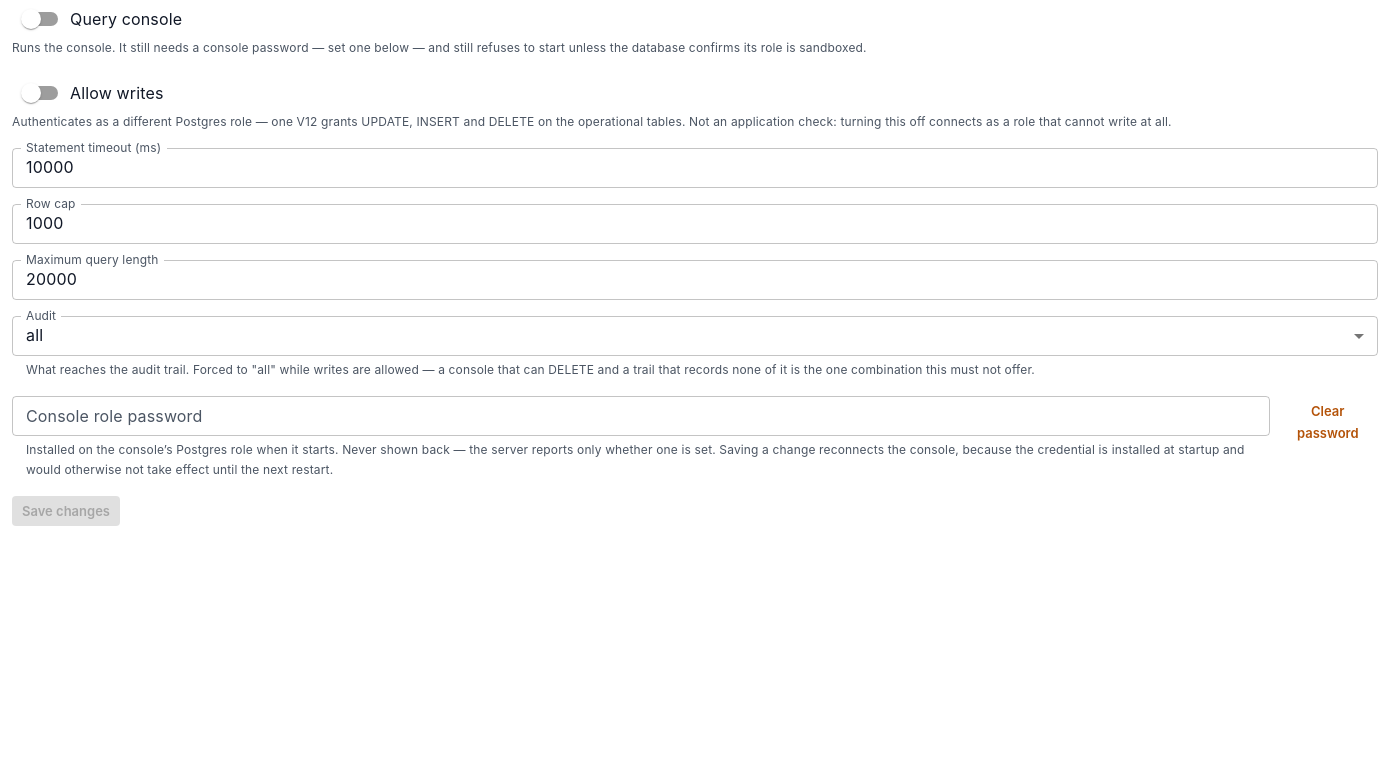
editing the settings › turns the console on without a restart
Click the switch labelled "Query console": (102, 19) x1=21 y1=9 x2=182 y2=29
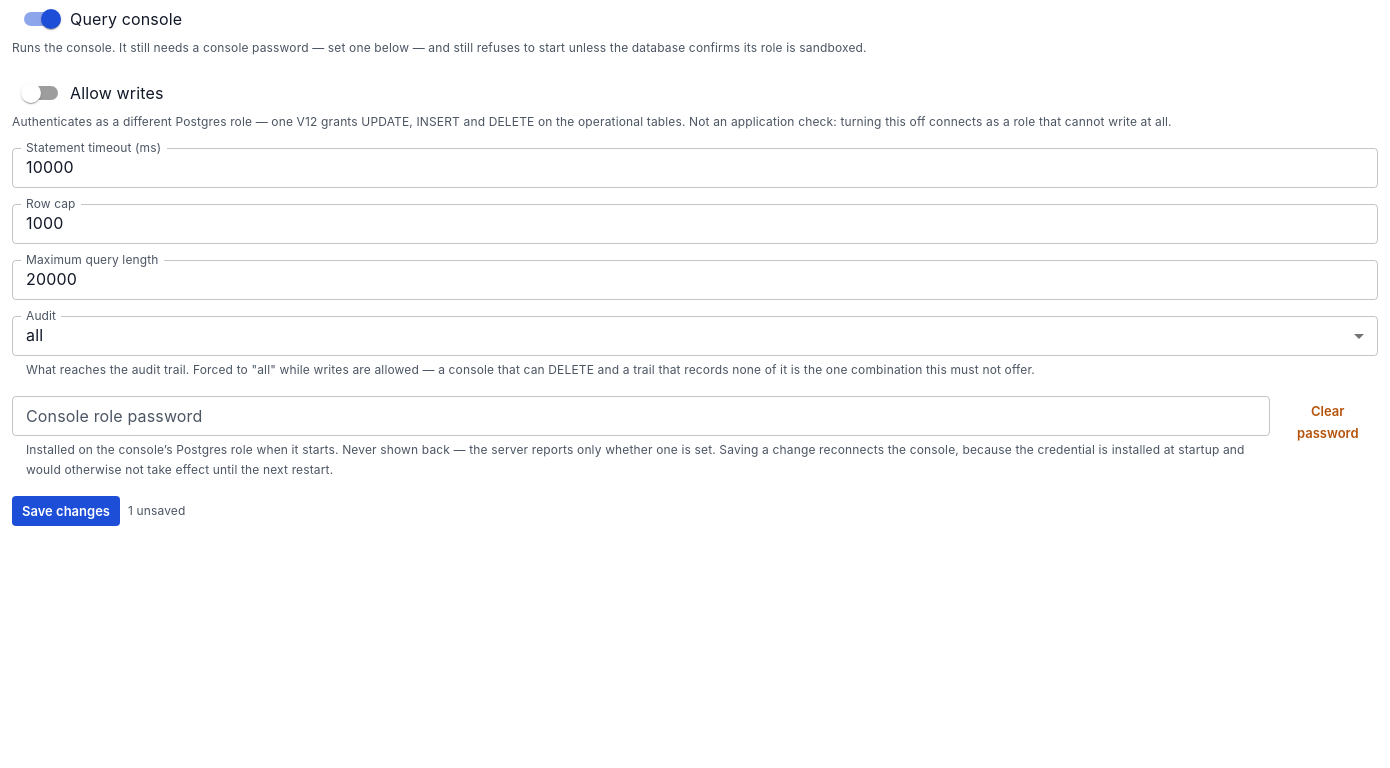
Click the button "Save changes": (66, 511) x1=12 y1=496 x2=120 y2=526
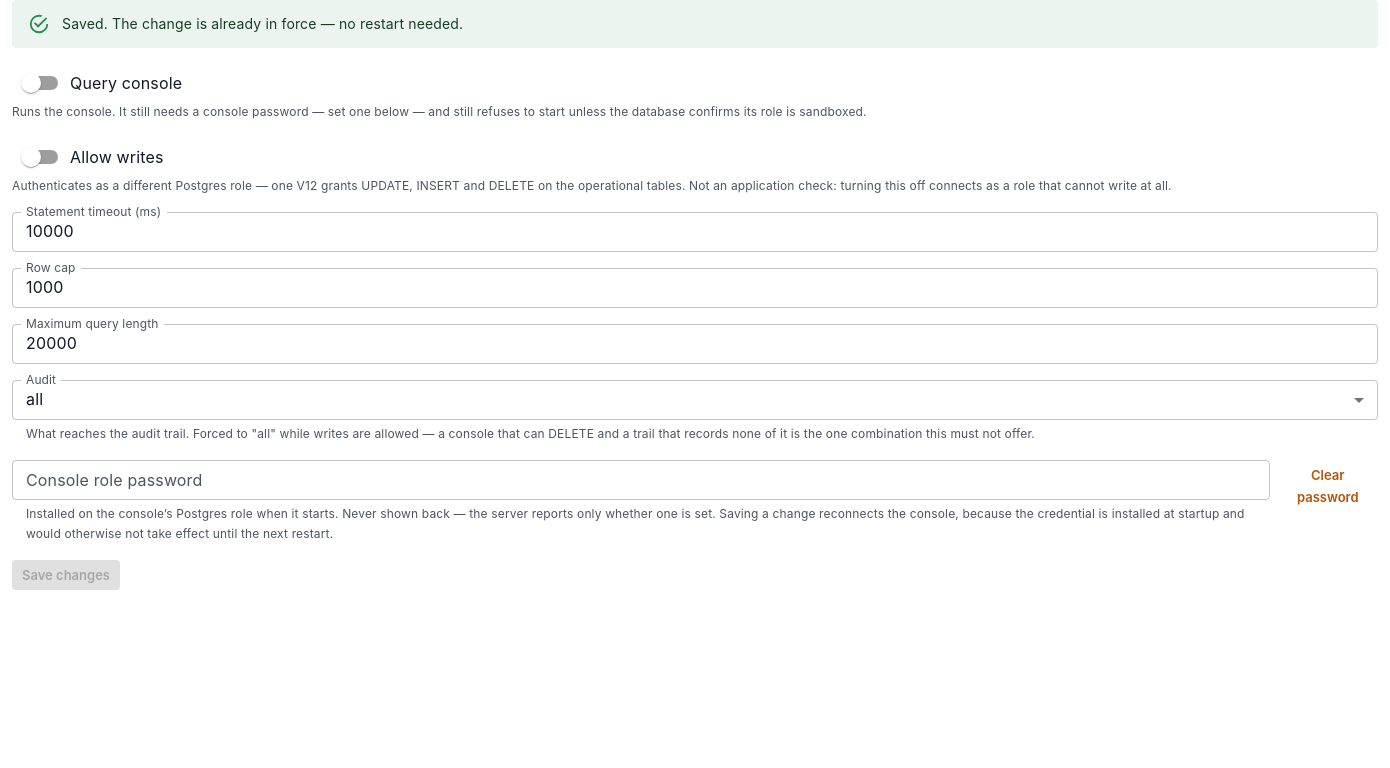
Check: the text "Saved. The change is already in force — no restart needed." is shown, box x1=62 y1=15 x2=463 y2=32
